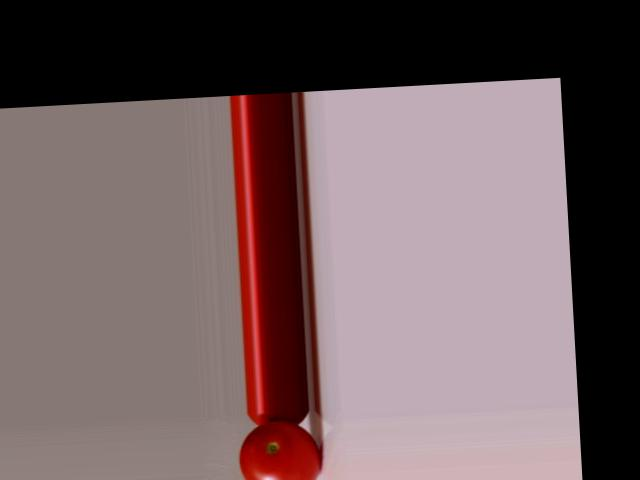tomato: (237, 419, 322, 480)
